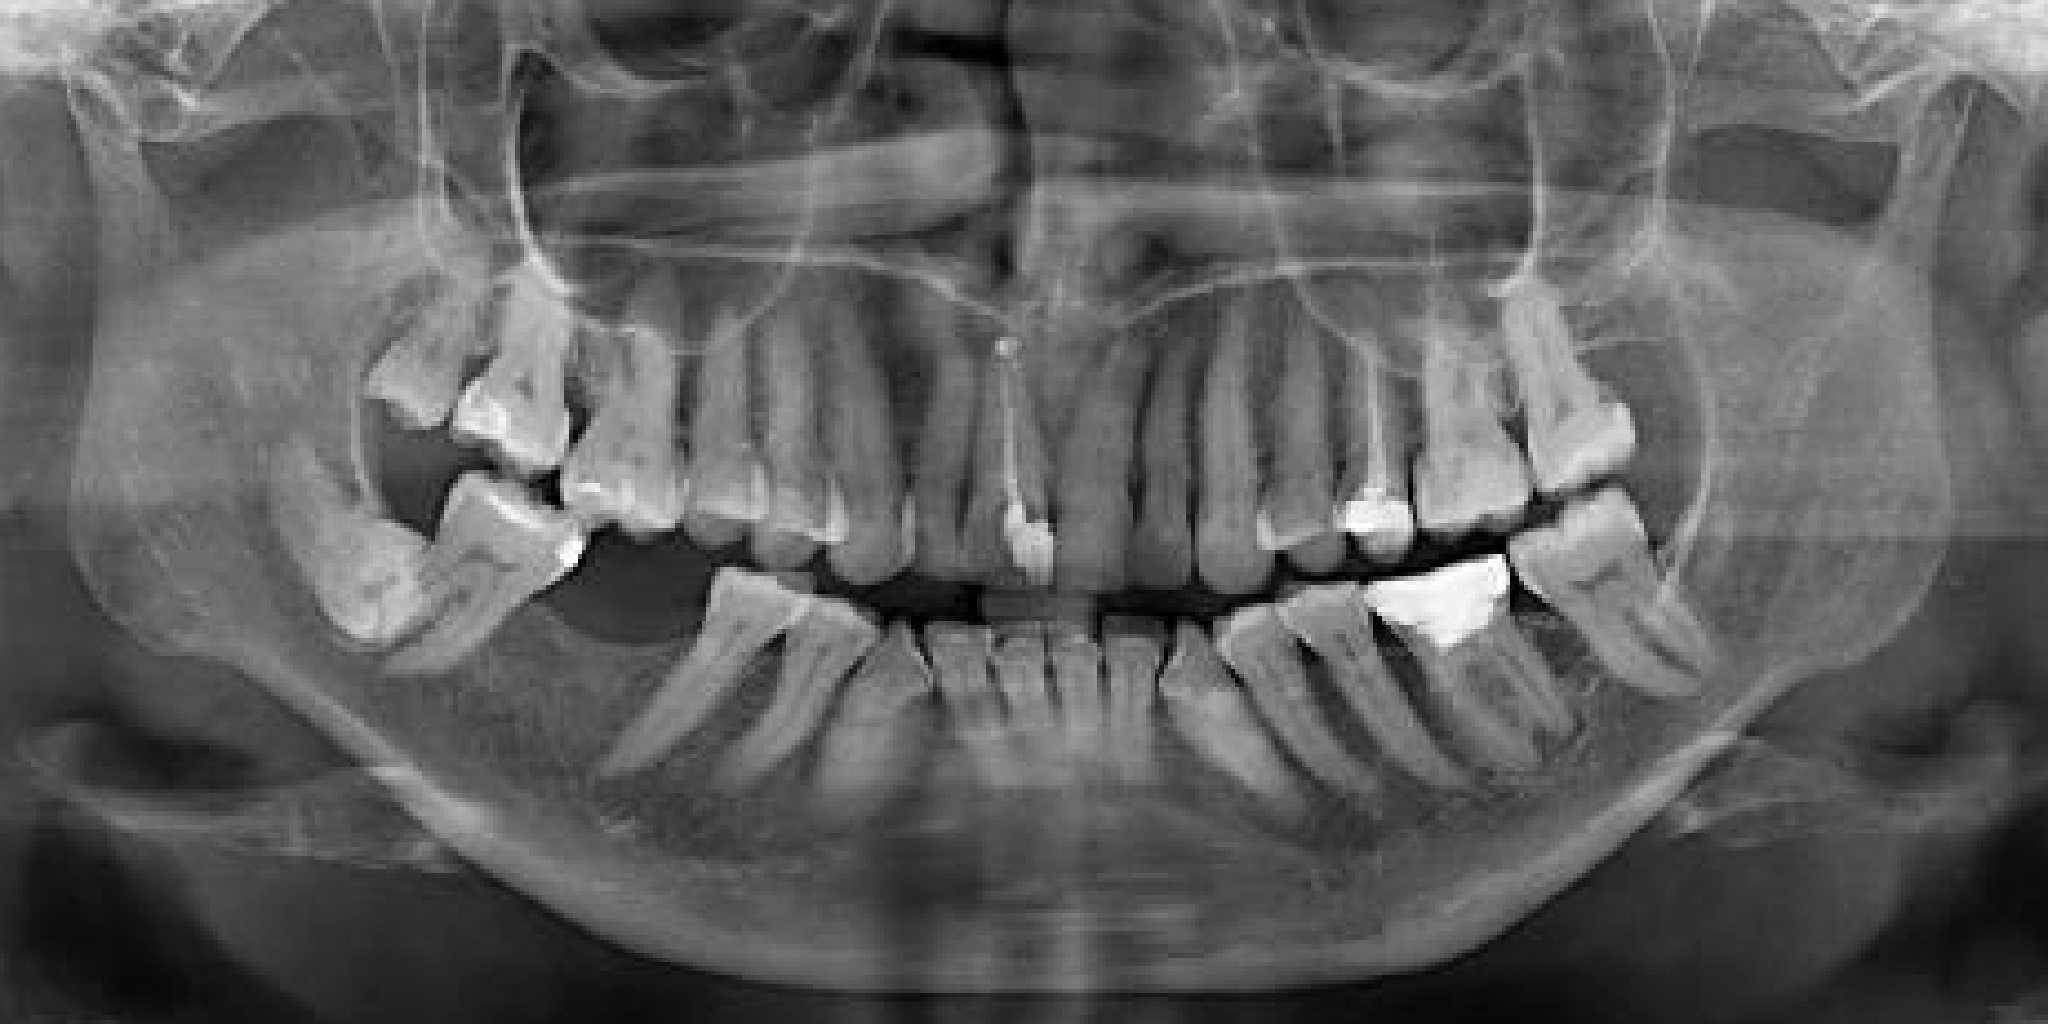Tooth: (308, 430, 606, 729), (1341, 502, 1622, 805), (564, 522, 832, 819), (1482, 462, 1750, 754), (1256, 543, 1498, 829), (240, 394, 468, 679), (1191, 575, 1409, 835), (688, 569, 893, 823), (1469, 246, 1650, 505), (1031, 321, 1189, 609), (1125, 605, 1307, 849), (1370, 270, 1526, 556), (549, 313, 716, 551), (793, 304, 925, 590), (1181, 298, 1296, 610), (798, 609, 951, 836), (441, 266, 593, 485), (347, 242, 502, 445), (741, 316, 858, 573), (674, 306, 797, 551), (947, 334, 1061, 597), (1117, 332, 1226, 600), (1310, 311, 1421, 571), (1255, 313, 1358, 580), (887, 342, 991, 592), (1091, 603, 1189, 793), (920, 610, 1016, 795), (984, 610, 1068, 776), (1040, 609, 1118, 765)
